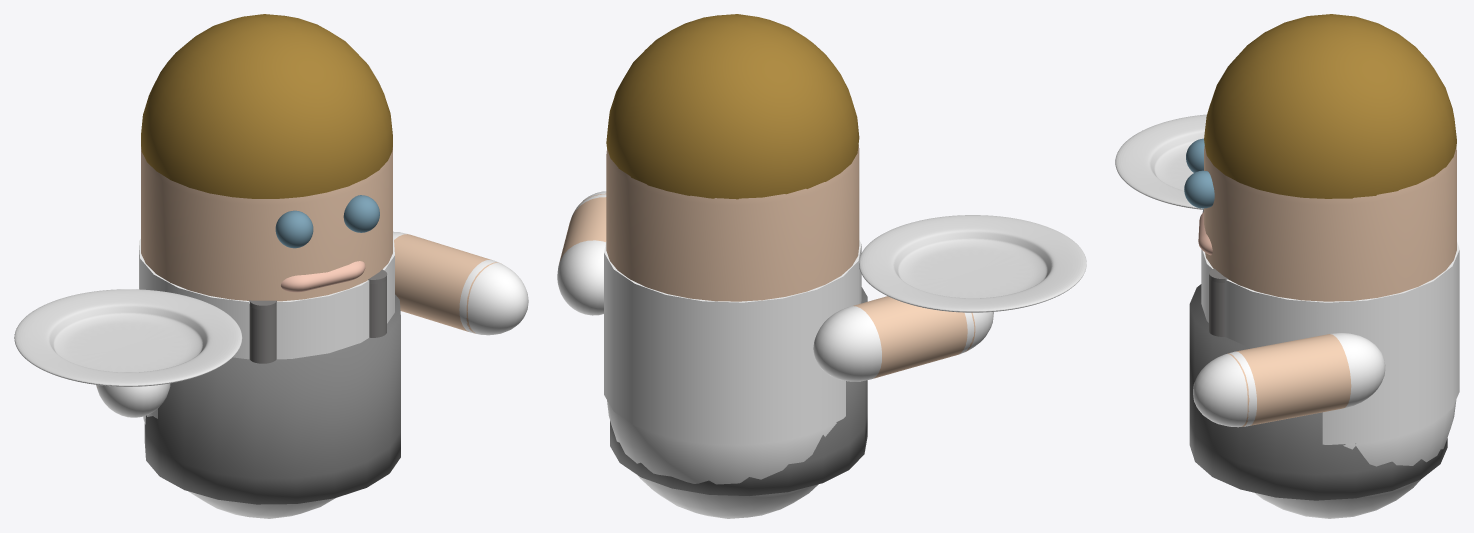
File: waitor.fbx
3 views of the same model, side by side, from view 1: azimuth 30°, elevation 25°; view 2: azimuth 150°, elevation 25°; view 3: azimuth 270°, elevation 25° (orthographic).
Parts seen in each view (by area): view 1: Hair, Apron, Body, Plate, Shirt, RightArm, RIghtGlove, LeftGlove, Pants, Mouth, LeftEye, RightEye; view 2: Hair, Shirt, Body, Plate, Pants, Apron, LeftArm, BottomStripe, LeftSleeve, RightSleeve, TopStripe, RightArm (+1 smaller); view 3: Hair, Body, Shirt, Apron, RightArm, Plate, Pants, RIghtGlove, BottomStripe, RightSleeve, TopStripe, RightEye (+1 smaller).
Boxes of the visible parts, x1,y1,x2,y2 form: Hair: (141, 14, 392, 198); Apron: (144, 269, 400, 504); Body: (141, 147, 392, 301); Plate: (14, 289, 242, 386); Shirt: (139, 237, 394, 359); RightArm: (394, 234, 498, 333); RIghtGlove: (459, 259, 528, 335); LeftGlove: (96, 383, 170, 417); Pants: (143, 413, 335, 518); Mouth: (281, 261, 365, 292); LeftEye: (275, 210, 313, 248); RightEye: (343, 195, 379, 232); Hair: (606, 14, 859, 199); Shirt: (604, 240, 861, 417); Body: (606, 145, 859, 301); Plate: (859, 215, 1086, 312); Pants: (607, 400, 836, 518); Apron: (610, 287, 867, 495); LeftArm: (853, 296, 975, 378); BottomStripe: (604, 377, 845, 444); LeftSleeve: (813, 306, 881, 381); RightSleeve: (557, 240, 605, 315); TopStripe: (604, 368, 845, 426); RightArm: (559, 193, 606, 263); Hair: (1204, 14, 1456, 198); Body: (1204, 145, 1456, 301); Shirt: (1201, 242, 1459, 417); Apron: (1189, 268, 1447, 500); RightArm: (1228, 334, 1351, 426); Plate: (1115, 114, 1206, 209); Pants: (1254, 400, 1456, 518); RIghtGlove: (1193, 351, 1256, 427); BottomStripe: (1322, 374, 1459, 444); RightSleeve: (1330, 333, 1385, 408); TopStripe: (1322, 365, 1459, 426); RightEye: (1184, 170, 1214, 208).
Size of the model in its own units: 225 by 210 by 136.
